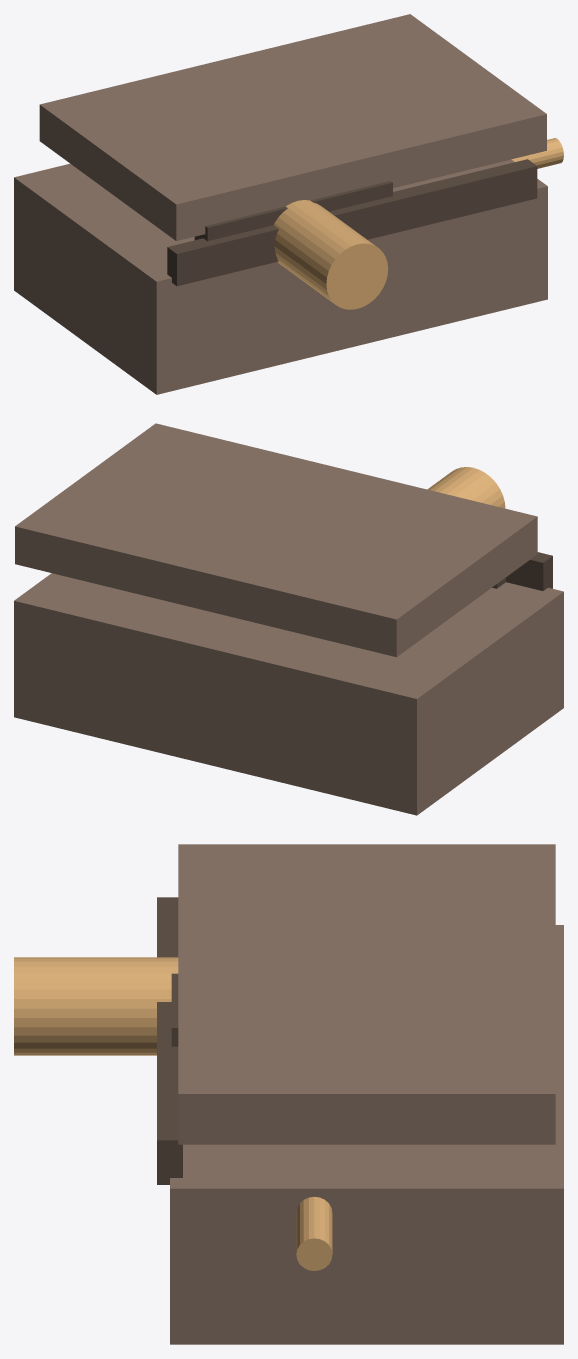
File: oddity_0003.glb
3 views of the same model, one above another, from view 1: azimuth 30°, elevation 25°; view 2: azimuth 150°, elevation 25°; view 3: azimuth 270°, elevation 25° (orthographic). The views are drawn at different scales.
Parts seen in each view (by area): view 1: oddity_0003_music_box_lid, oddity_0003_music_box_base, oddity_0003_music_box_shadow_gap, oddity_0003_music_box_cylinder, oddity_0003_music_box_cylinder_bridge, oddity_0003_music_box_crank; view 2: oddity_0003_music_box_base, oddity_0003_music_box_lid, oddity_0003_music_box_cylinder, oddity_0003_music_box_shadow_gap; view 3: oddity_0003_music_box_lid, oddity_0003_music_box_base, oddity_0003_music_box_cylinder, oddity_0003_music_box_shadow_gap, oddity_0003_music_box_crank, oddity_0003_music_box_cylinder_bridge.
Boxes of the visible parts, x1=… form: oddity_0003_music_box_lid: x1=39, y1=14, x2=546, y2=240; oddity_0003_music_box_base: x1=14, y1=159, x2=547, y2=394; oddity_0003_music_box_shadow_gap: x1=167, y1=159, x2=537, y2=286; oddity_0003_music_box_cylinder: x1=274, y1=200, x2=388, y2=309; oddity_0003_music_box_cylinder_bridge: x1=194, y1=181, x2=392, y2=241; oddity_0003_music_box_crank: x1=511, y1=138, x2=563, y2=168; oddity_0003_music_box_base: x1=14, y1=573, x2=563, y2=815; oddity_0003_music_box_lid: x1=15, y1=423, x2=537, y2=657; oddity_0003_music_box_cylinder: x1=427, y1=467, x2=505, y2=508; oddity_0003_music_box_shadow_gap: x1=506, y1=552, x2=552, y2=590; oddity_0003_music_box_lid: x1=178, y1=844, x2=555, y2=1144; oddity_0003_music_box_base: x1=170, y1=925, x2=563, y2=1344; oddity_0003_music_box_cylinder: x1=14, y1=957, x2=178, y2=1055; oddity_0003_music_box_shadow_gap: x1=157, y1=897, x2=182, y2=1184; oddity_0003_music_box_crank: x1=296, y1=1196, x2=332, y2=1270; oddity_0003_music_box_cylinder_bridge: x1=171, y1=903, x2=178, y2=1046.
Bounding box in the file's own units: 0.44 × 0.1695 × 0.335.
